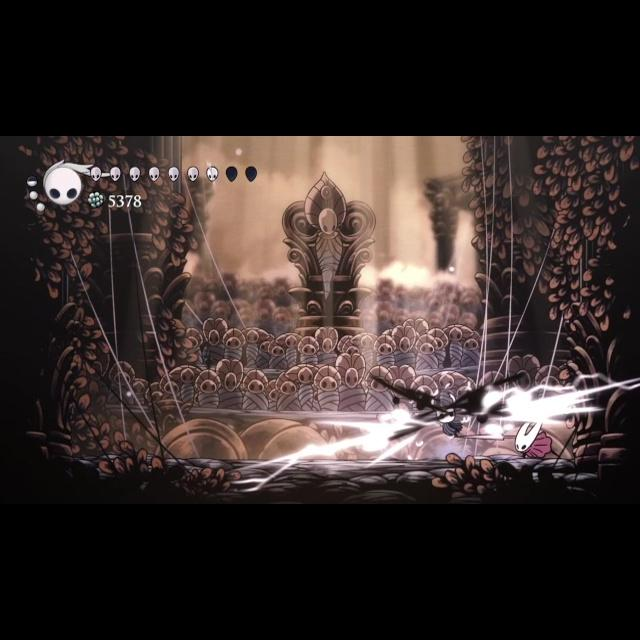Enemy: (508, 418, 564, 466)
NailAttack: (462, 428, 516, 448)
Player: (426, 386, 464, 439)
